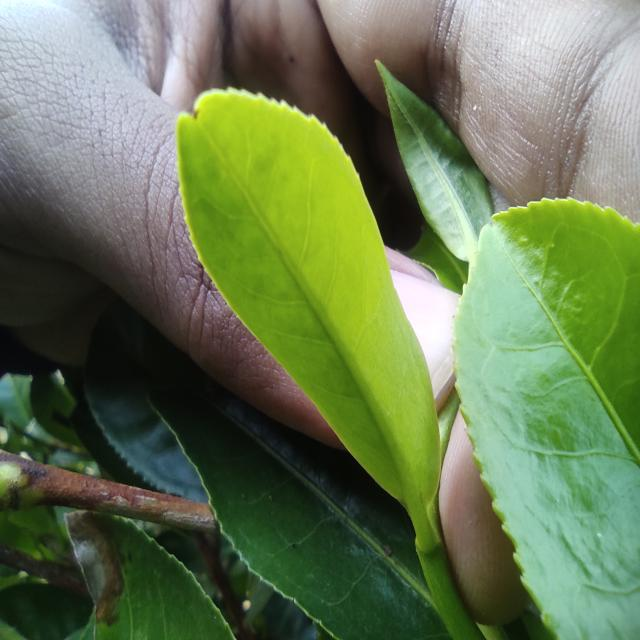Category C(4-7 days): (156, 59, 452, 542)
